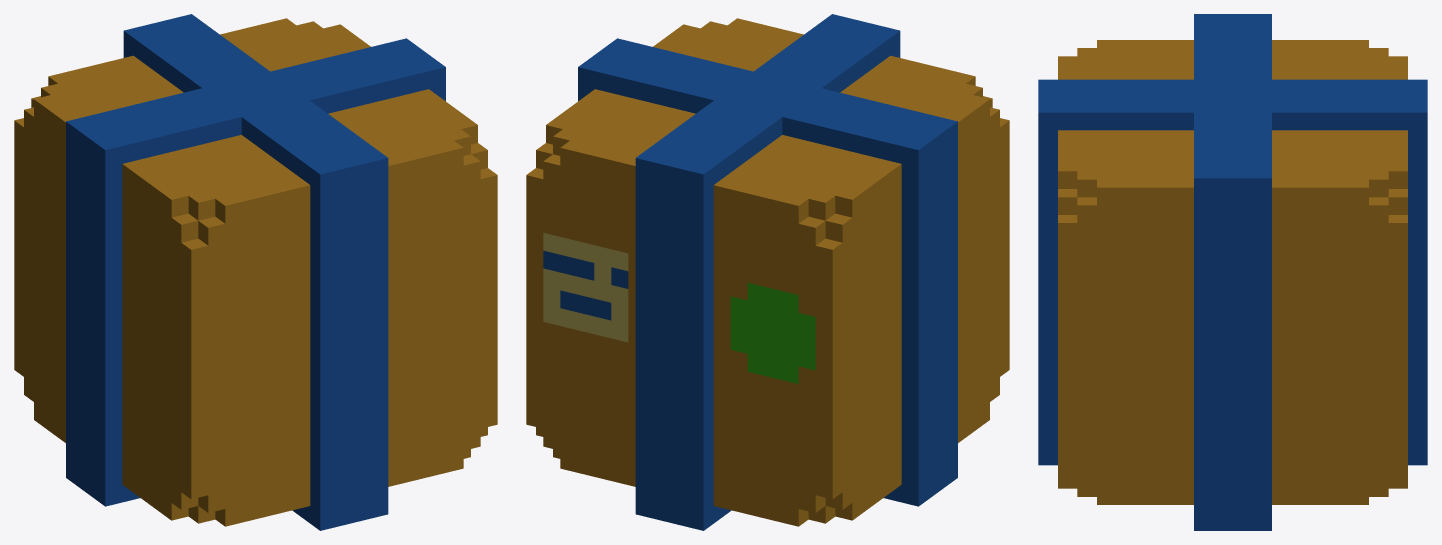
Rendered from FurnitureVoxeModel.obj.
3 views of the same model, side by side, from view 1: azimuth 30°, elevation 25°; view 2: azimuth 150°, elevation 25°; view 3: azimuth 270°, elevation 25° (orthographic).
Size of the model in its own units: 2 by 2 by 2.
1 material, 1 textured.
